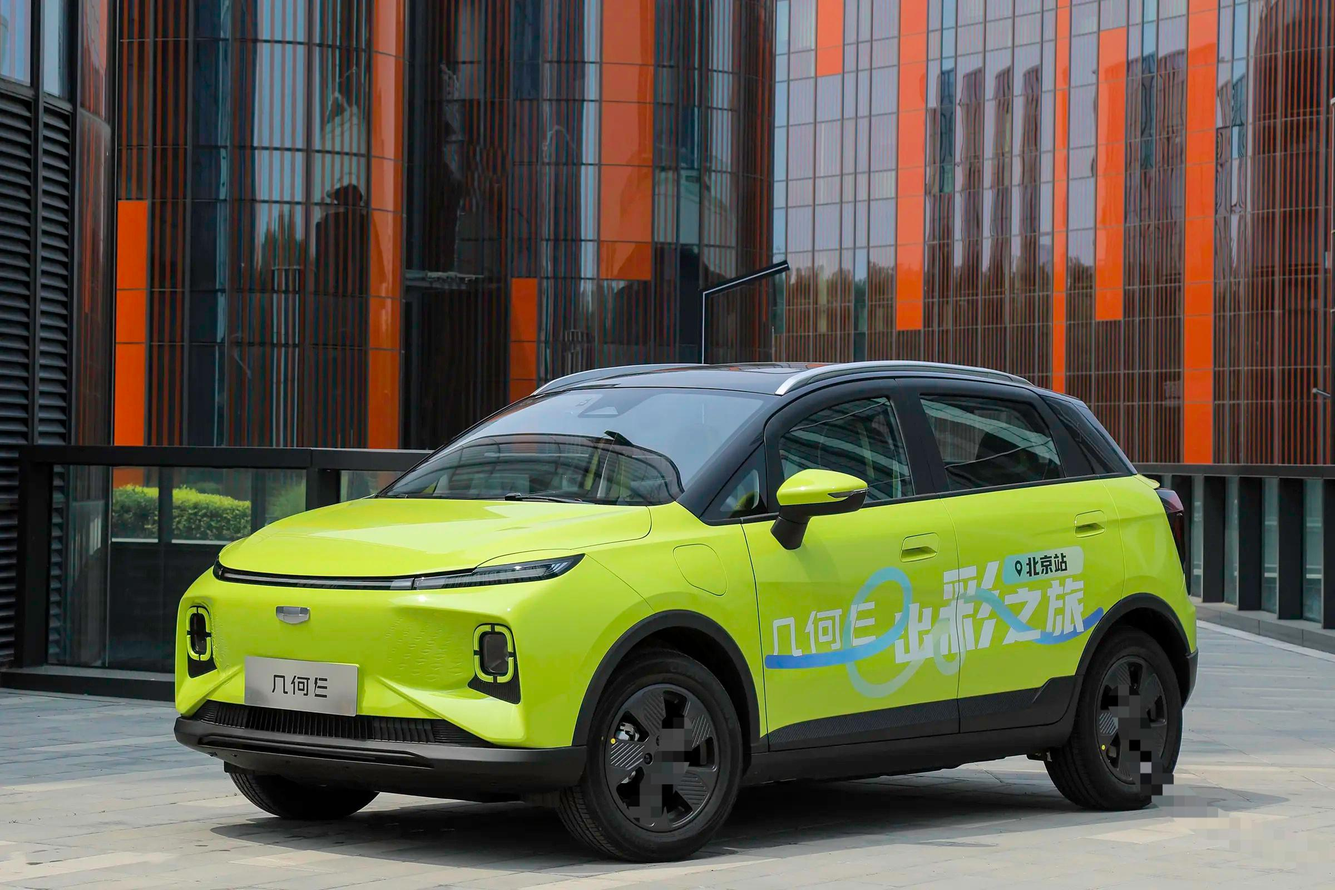GEOMETRY: (276, 606, 309, 623)
